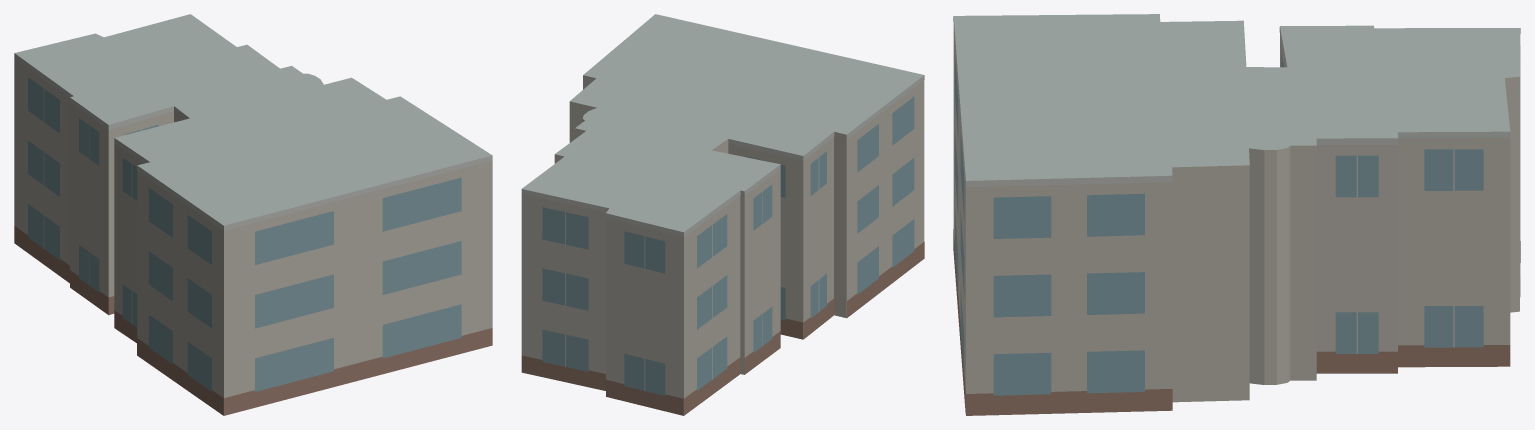
The model's file is survey-upis-32658487.glb.
The picture shows the model from 3 angles, left to right: view 1: azimuth 30°, elevation 25°; view 2: azimuth 150°, elevation 25°; view 3: azimuth 270°, elevation 25°; orthographic projection. The views are drawn at different scales.
Visible parts, largest first — view 1: survey-upis-32658487.tmp; view 2: survey-upis-32658487.tmp; view 3: survey-upis-32658487.tmp.
Boxes of the visible parts, x1=… form: survey-upis-32658487.tmp: x1=14, y1=14, x2=492, y2=415; survey-upis-32658487.tmp: x1=521, y1=14, x2=924, y2=415; survey-upis-32658487.tmp: x1=953, y1=14, x2=1520, y2=415.
Size of the model in its own units: 13.95 by 9.15 by 20.01.
